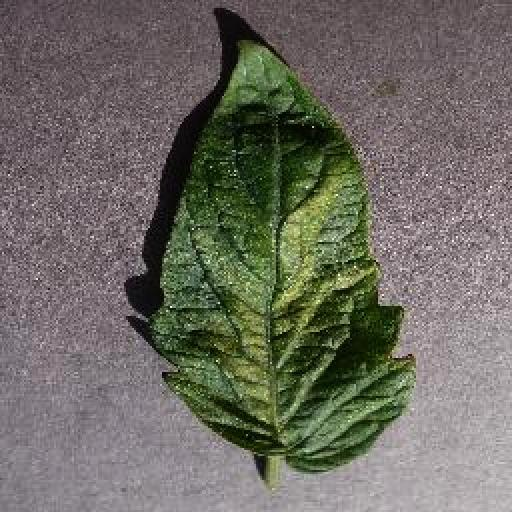disease_tomato: (150, 40, 416, 474)
